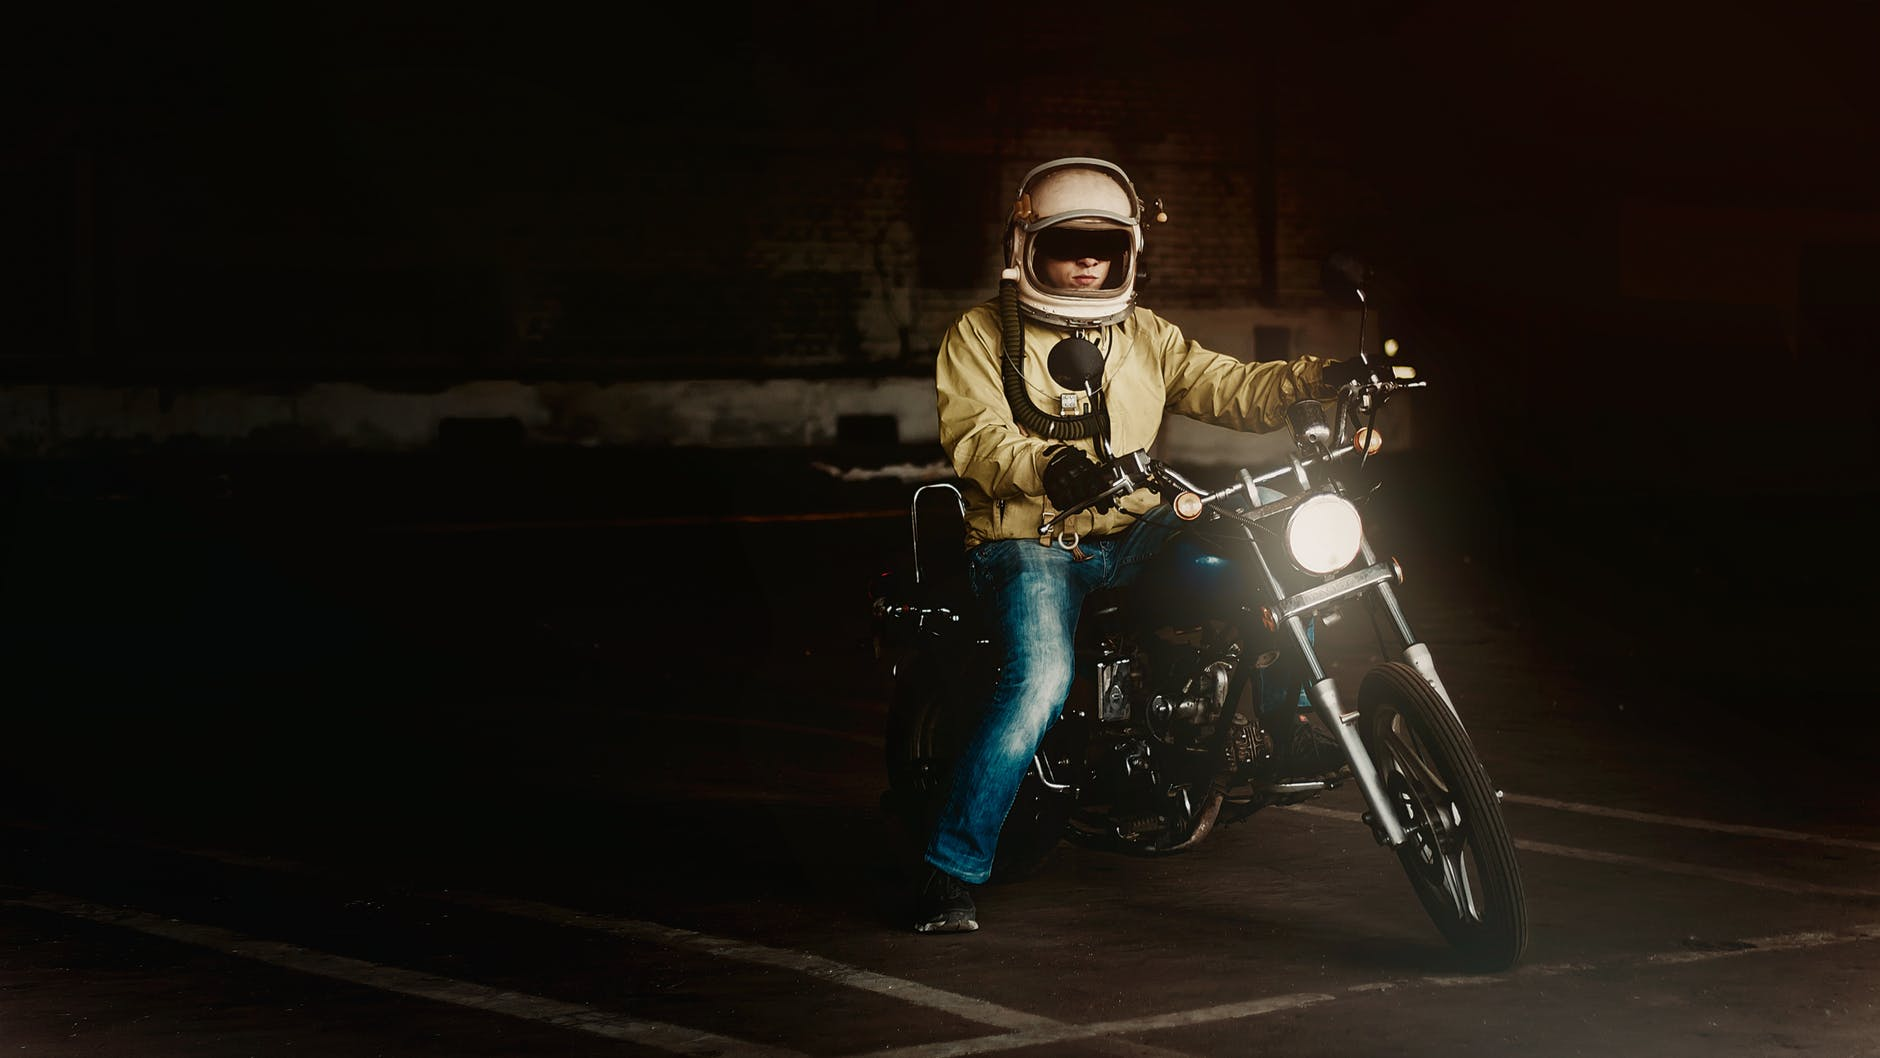helmet: (1014, 167, 1141, 318)
